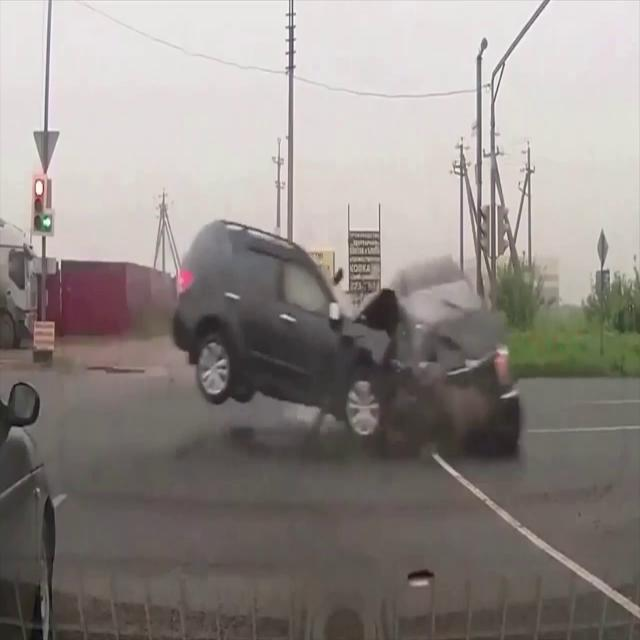accident: (169, 216, 523, 459)
